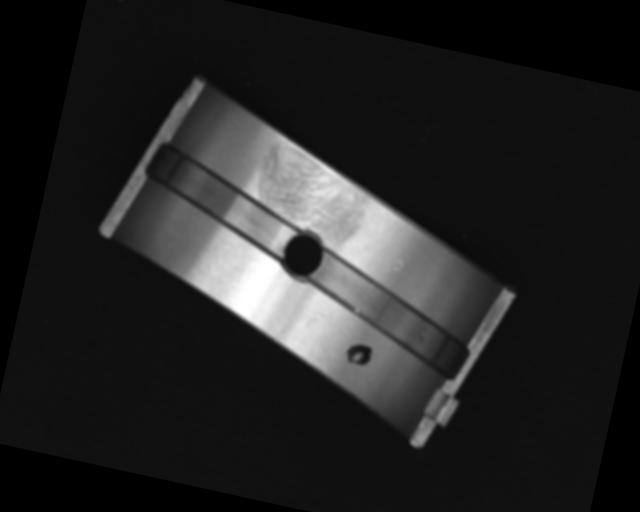blot: (342, 340, 375, 370)
bruise: (392, 257, 404, 274)
gap: (295, 247, 479, 376), (135, 142, 308, 257)
hole: (276, 226, 329, 284)
scratch: (246, 138, 373, 246)
